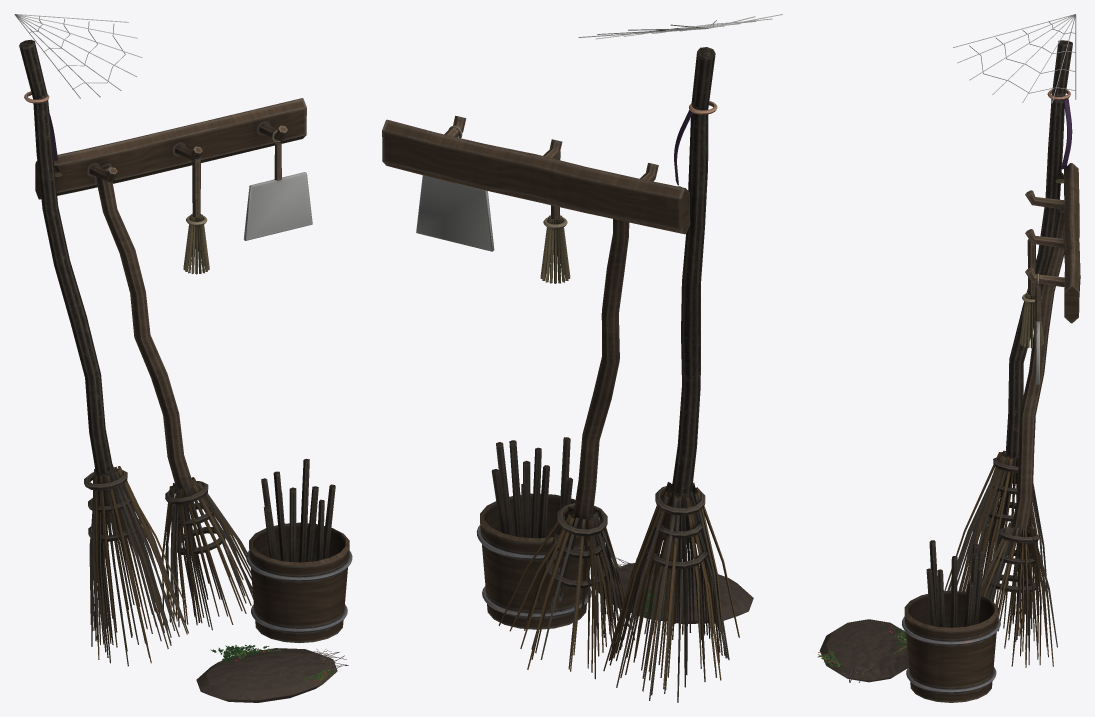
The model's file is BroomCorner.fbx.
3 renders of one model, left to right at view 1: azimuth 30°, elevation 25°; view 2: azimuth 150°, elevation 25°; view 3: azimuth 270°, elevation 25°, orthographic. The views are drawn at different scales.
Visible parts, largest first — view 1: BroomCorner_Main, BroomCorner_Leaves; view 2: BroomCorner_Main; view 3: BroomCorner_Main, BroomCorner_Leaves.
Boxes of the visible parts, x1,y1,x2,y2 form: BroomCorner_Main: (14,14,352,702); BroomCorner_Leaves: (210,645,348,681); BroomCorner_Main: (382,14,782,702); BroomCorner_Main: (819,14,1080,702); BroomCorner_Leaves: (817,628,907,682).
Bounding box in the file's own units: 337 × 704 × 294.
